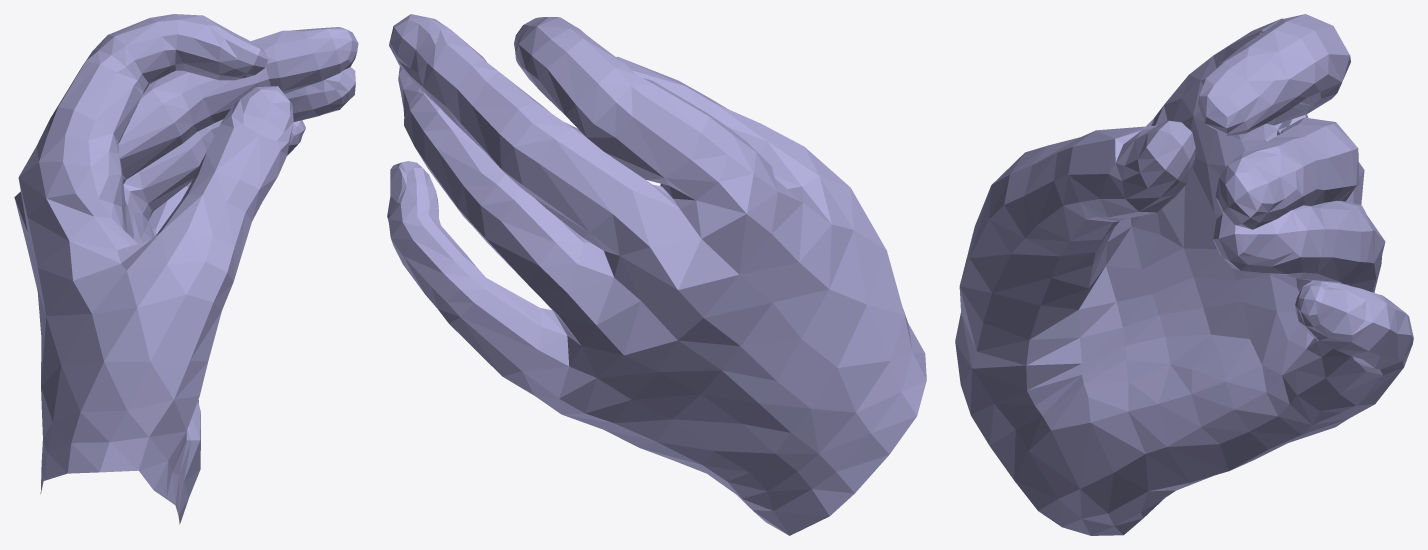
Rendered from frame_0013_source_000013_hand.glb.
3 views of the same model, side by side, from view 1: azimuth 30°, elevation 25°; view 2: azimuth 150°, elevation 25°; view 3: azimuth 270°, elevation 25° (orthographic). The views are drawn at different scales.
Visible parts, largest first — view 1: world; view 2: world; view 3: world.
Part boxes in pixels (x1,y1,x2,y2): world: (14, 14, 358, 524); world: (387, 14, 926, 535); world: (955, 14, 1413, 535).
Size of the model in its own units: 0.1233 by 0.1367 by 0.0986.
